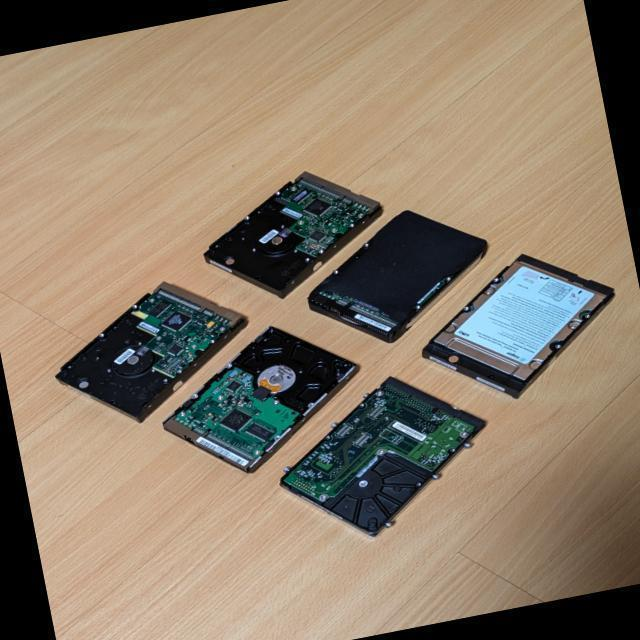DISK: (263, 359, 504, 554), (407, 237, 632, 416), (148, 311, 374, 488), (41, 266, 262, 438), (294, 196, 502, 357), (192, 158, 396, 312)
